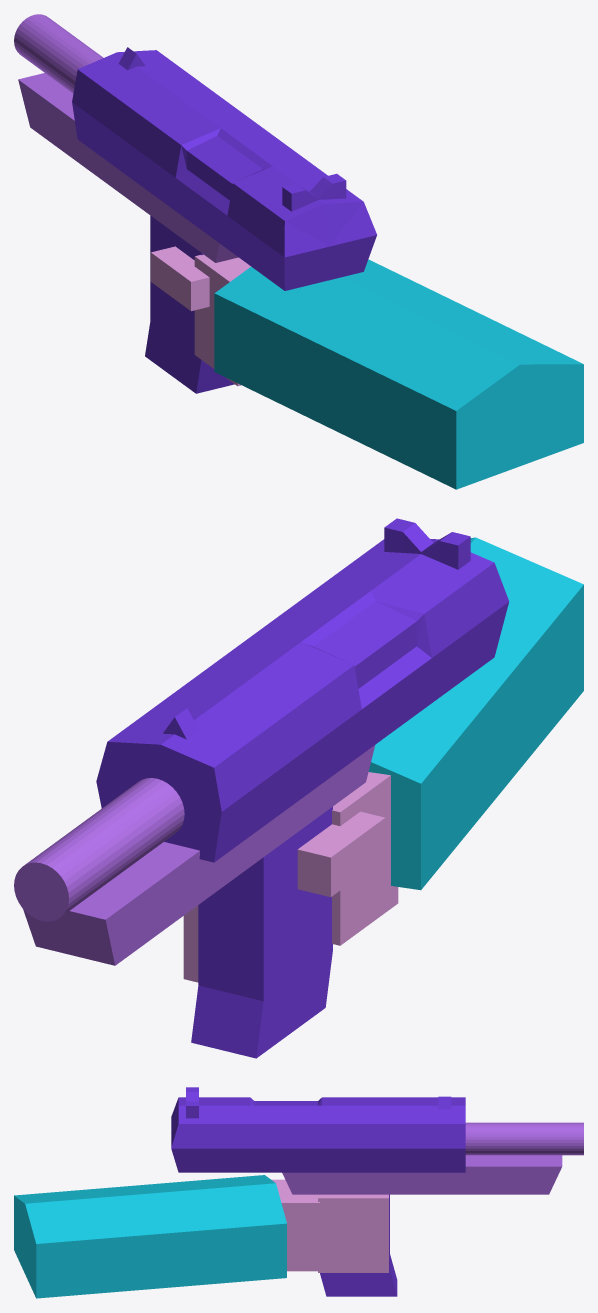
File: pistol.dae
3 views of the same model, one above another, from view 1: azimuth 30°, elevation 25°; view 2: azimuth 150°, elevation 25°; view 3: azimuth 270°, elevation 25° (orthographic). The views are drawn at different scales.
Visible parts, largest first — view 1: Cube.003, Cube.008, Cube.004, Cube.005, Cylinder, Cube.002, Cube.001; view 2: Cube.008, Cube.003, Cube.005, Cube.004, Cylinder, Cube.001, Cube.002, Cube.009; view 3: Cube.003, Cube.008, Cube.004, Cube.009, Cylinder, Cube.001, Cube.005.
Part boxes in pixels (bbox=[...]): Cube.003: bbox=[214, 259, 583, 489]; Cube.008: bbox=[72, 47, 376, 290]; Cube.004: bbox=[18, 73, 238, 262]; Cube.005: bbox=[145, 215, 234, 393]; Cylinder: bbox=[14, 14, 103, 93]; Cube.002: bbox=[150, 246, 209, 311]; Cube.001: bbox=[194, 254, 250, 386]; Cube.008: bbox=[96, 518, 509, 862]; Cube.003: bbox=[368, 537, 583, 890]; Cube.005: bbox=[191, 806, 332, 1058]; Cube.004: bbox=[23, 745, 375, 965]; Cylinder: bbox=[14, 778, 184, 921]; Cube.001: bbox=[332, 772, 398, 945]; Cube.002: bbox=[297, 811, 385, 897]; Cube.009: bbox=[183, 905, 198, 982]; Cube.003: bbox=[14, 1175, 286, 1298]; Cube.008: bbox=[171, 1087, 465, 1172]; Cube.004: bbox=[282, 1155, 562, 1194]; Cube.009: bbox=[318, 1194, 388, 1272]; Cylinder: bbox=[465, 1122, 583, 1155]; Cube.001: bbox=[271, 1179, 319, 1271]; Cube.005: bbox=[320, 1194, 397, 1296].
Bounding box in the file's own units: 1.01 × 3.5 × 1.3.
